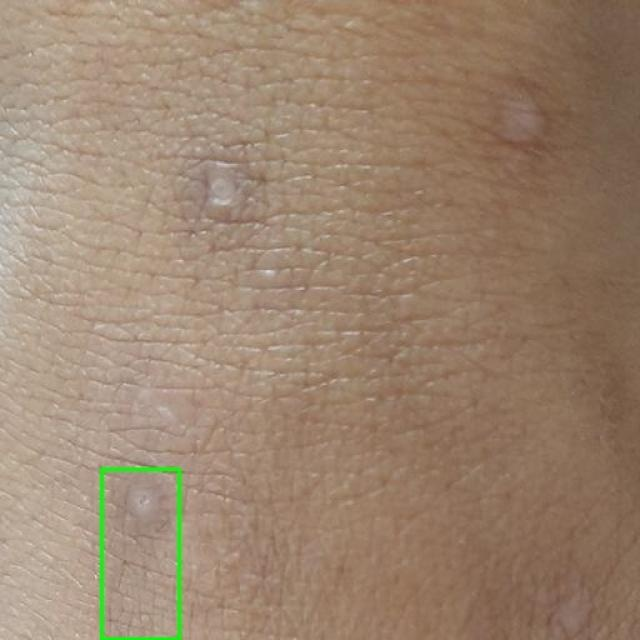Scabies: (101, 469, 179, 639)
